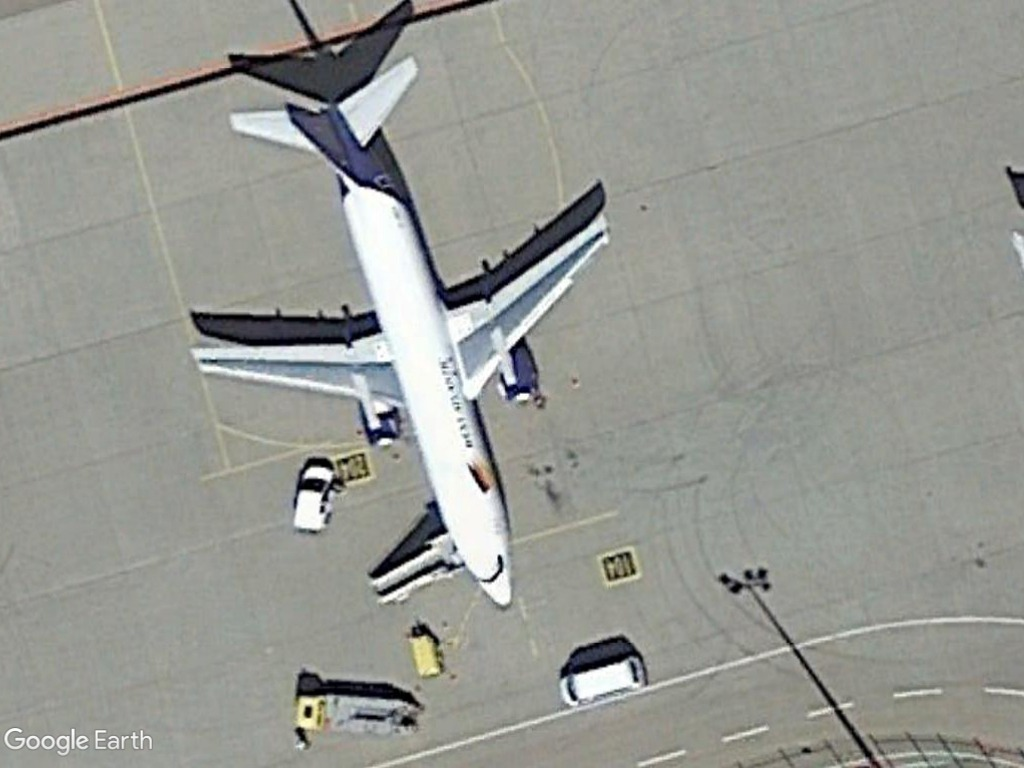airliner: (189, 50, 613, 616)
other: (291, 691, 419, 742)
stairtruck: (365, 532, 463, 611)
van: (555, 655, 651, 709), (287, 459, 341, 536)
